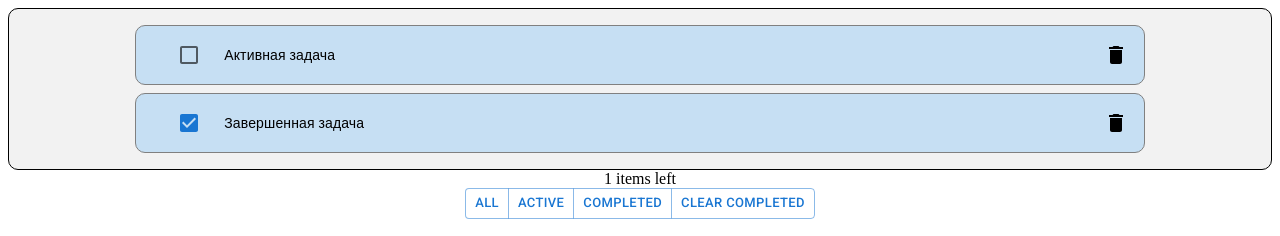
Интеграция Footer и TodoList › Проверка корректности работы фильтрации задач
The width and height of the screenshot is (1280, 236).
Check: the number of list items is 2, box [135,25,1145,85]; [135,93,1145,153]
# Фильтрация по активным задачам
Click the button "Active" at (541, 203), box [508,188,574,219]
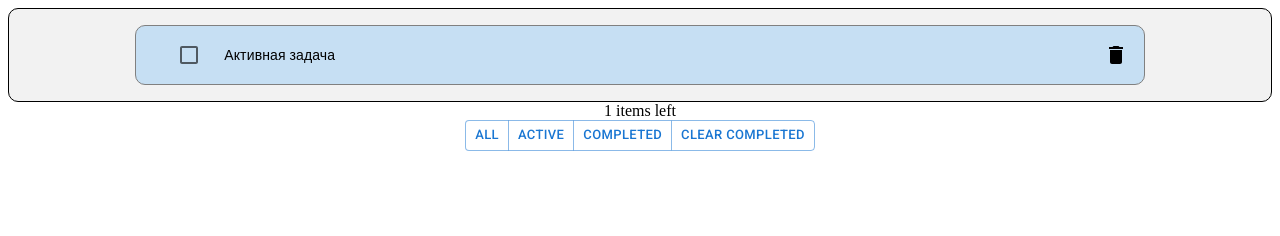
Check: the text "Активная задача" is shown, box [224,47,335,63]
Check: the number of list items is 1, box [135,25,1145,85]
# Фильтрация по завершенным задачам
Click the button "Completed" at (623, 135), box [573,120,672,151]
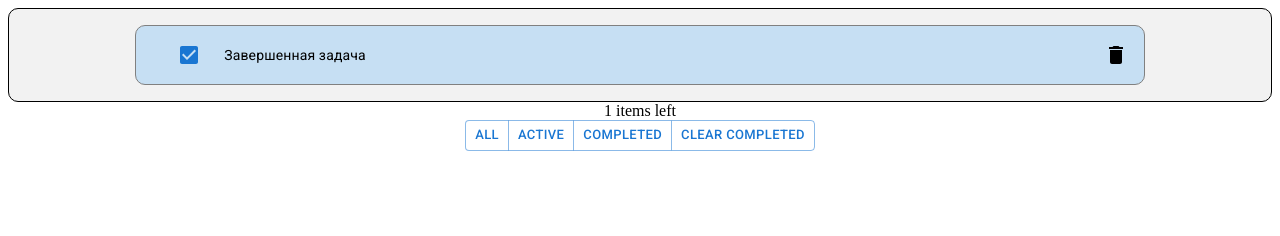
Check: the number of list items is 1, box [135,25,1145,85]
Check: the text "Завершенная задача" is shown, box [224,47,366,63]
